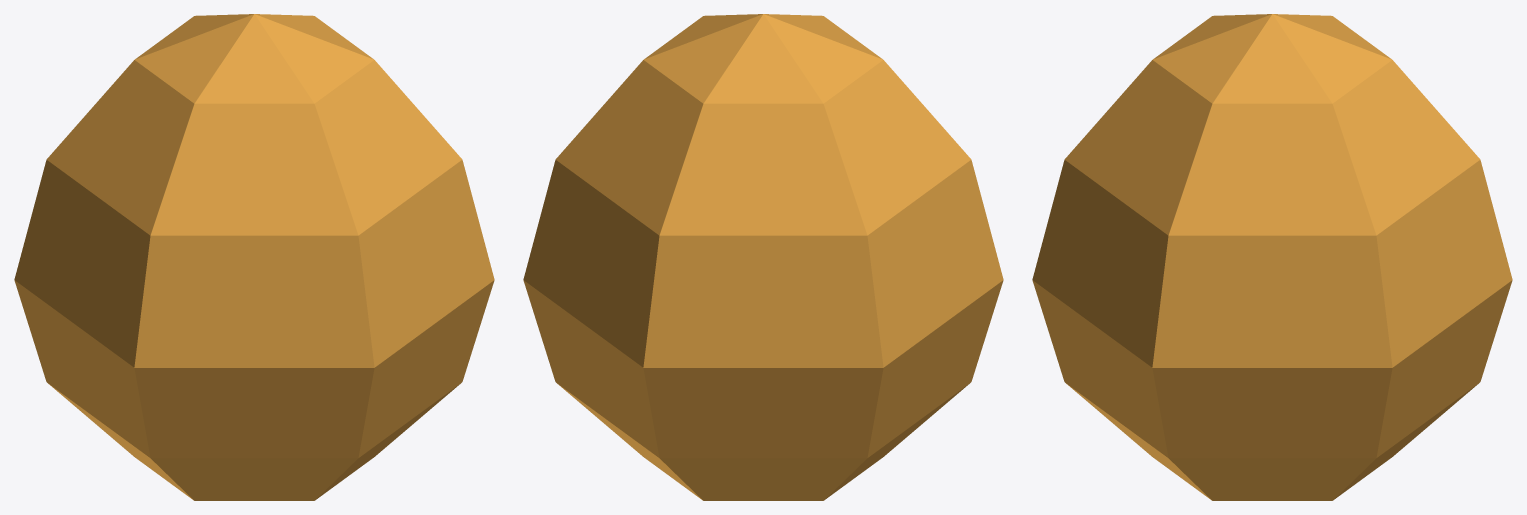
File: food-egg.glb
The picture shows the model from 3 angles, left to right: view 1: azimuth 30°, elevation 25°; view 2: azimuth 150°, elevation 25°; view 3: azimuth 270°, elevation 25°; orthographic projection.
Visible parts, largest first — view 1: egg; view 2: egg; view 3: egg.
Boxes of the visible parts, left/top/right/bottom form: egg: left=14, top=14, right=494, bottom=500; egg: left=523, top=14, right=1003, bottom=500; egg: left=1032, top=14, right=1512, bottom=500.
Bounding box in the file's own units: 0.1299 × 0.1621 × 0.15.
